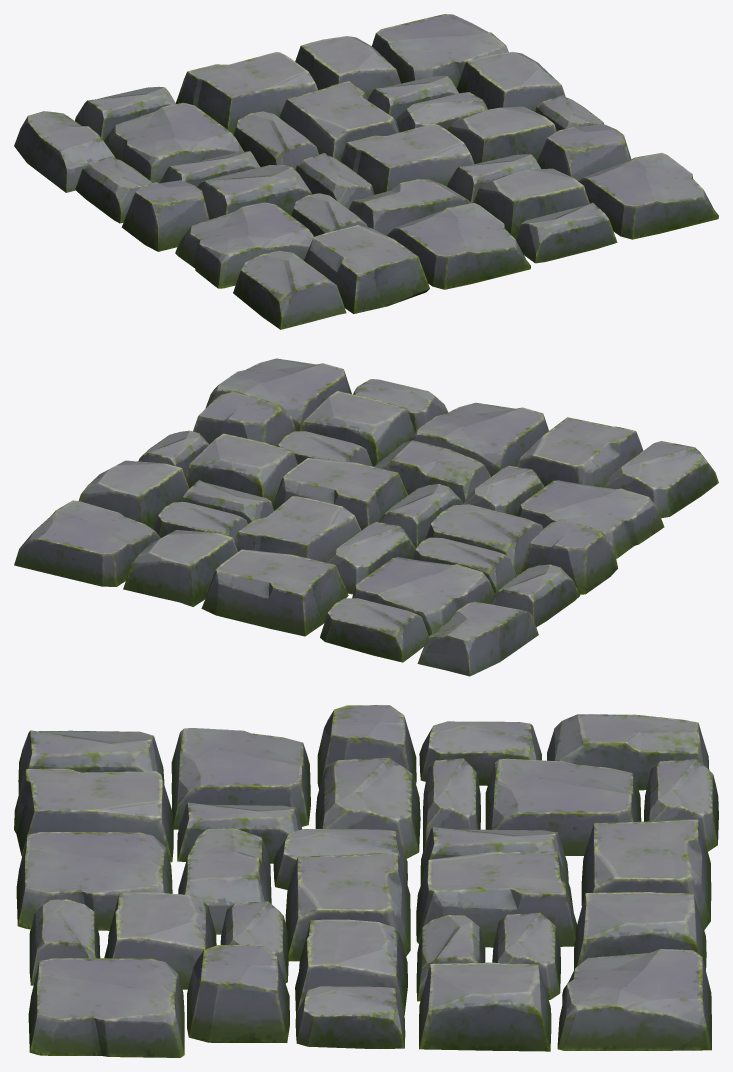
File: rock-path-square-wide-transformed.glb
3 views of the same model, one above another, from view 1: azimuth 30°, elevation 25°; view 2: azimuth 150°, elevation 25°; view 3: azimuth 270°, elevation 25° (orthographic). The views are drawn at different scales.
Visible parts, largest first — view 1: RockPath_Square_Wide; view 2: RockPath_Square_Wide; view 3: RockPath_Square_Wide.
Boxes of the visible parts, <box> form: RockPath_Square_Wide: <box>14,14,718,329</box>; RockPath_Square_Wide: <box>14,358,718,676</box>; RockPath_Square_Wide: <box>14,705,718,1057</box>.
Bounding box in the file's own units: 2.05 × 0.1763 × 1.99.
Materials: 1 (1 with a texture image).
